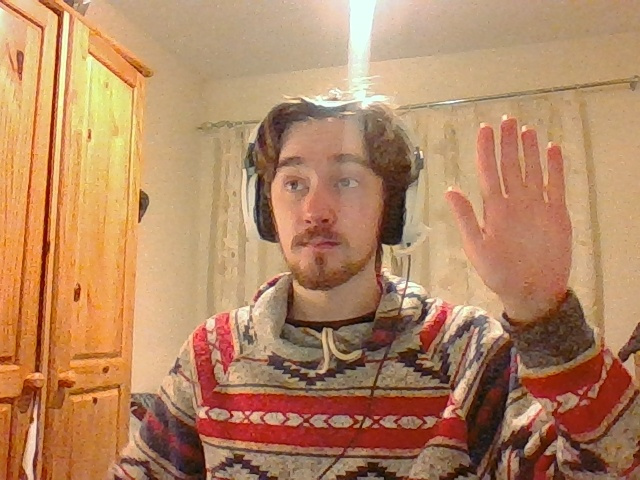hello: (444, 115, 574, 299)
